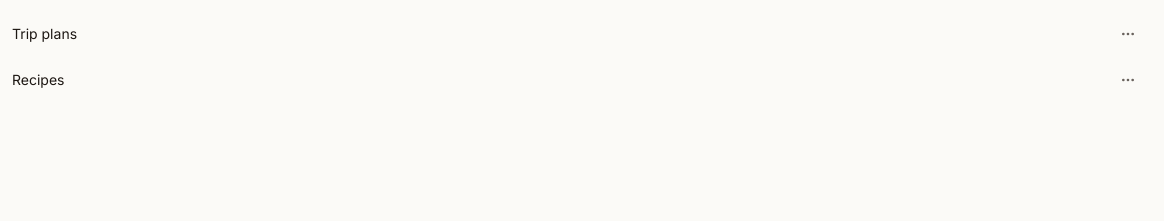
Test: SidebarList ⋯ menus › after a right-click on the row, Escape puts focus on the row's ⋯
Right-click the link "Trip plans" at point(44, 34), box [12,25,77,42]
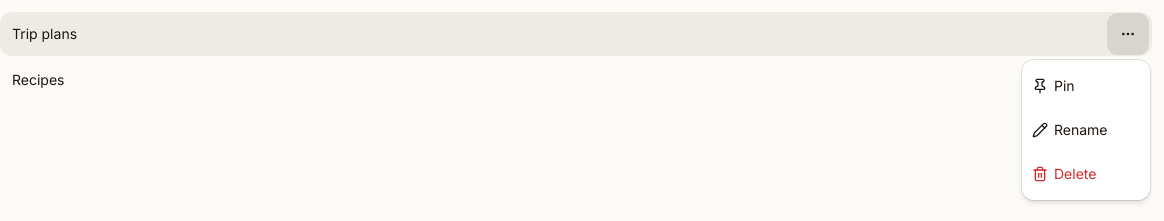
Press Escape in the menu, box [1022,60,1150,200]
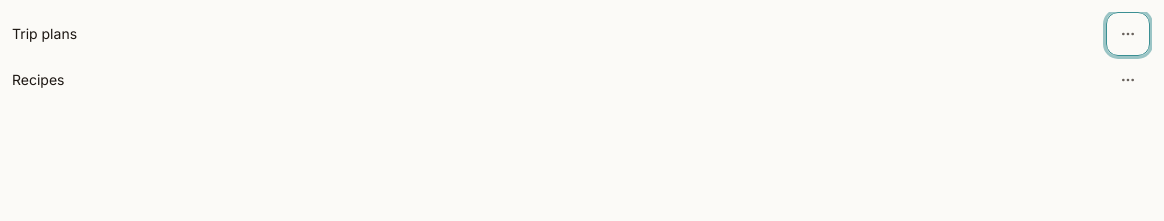
Expected: the menu is gone
